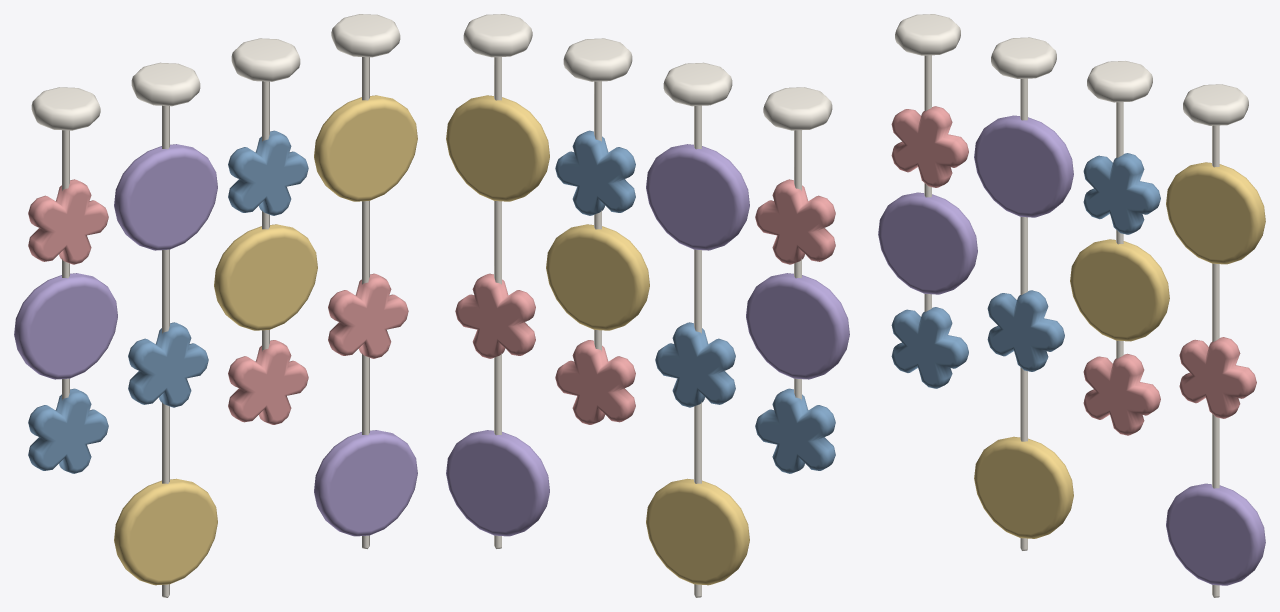
The model's file is dreamy_star_strings.glb.
3 renders of one model, left to right at view 1: azimuth 30°, elevation 25°; view 2: azimuth 150°, elevation 25°; view 3: azimuth 330°, elevation 25°, orthographic. The views are drawn at different scales.
Visible parts, largest first — view 1: dreamy_star_strings_mesh; view 2: dreamy_star_strings_mesh; view 3: dreamy_star_strings_mesh.
Part boxes in pixels (bbox=[...]): dreamy_star_strings_mesh: bbox=[14, 14, 417, 597]; dreamy_star_strings_mesh: bbox=[446, 14, 849, 597]; dreamy_star_strings_mesh: bbox=[878, 14, 1265, 597].
Bounding box in the file's own units: 0.3985 × 0.5 × 0.0571.
